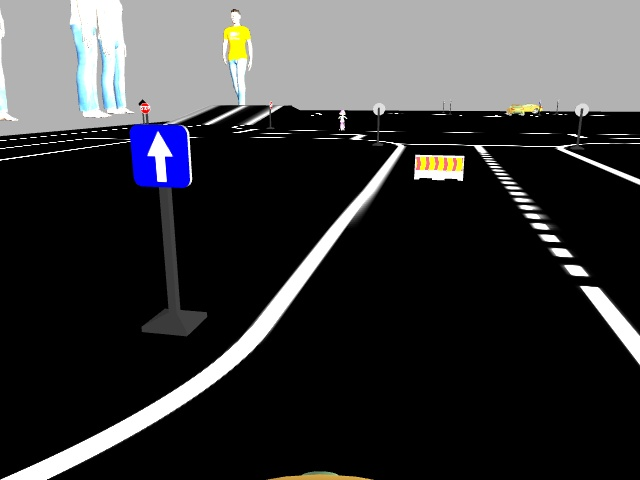ClosedRoadStand: (413, 155, 464, 180)
OneWay: (132, 124, 192, 186)
